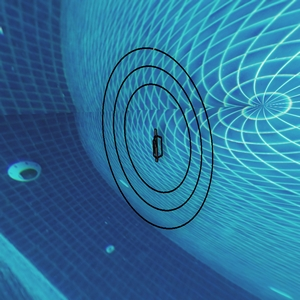circle: (99, 35, 222, 245)
